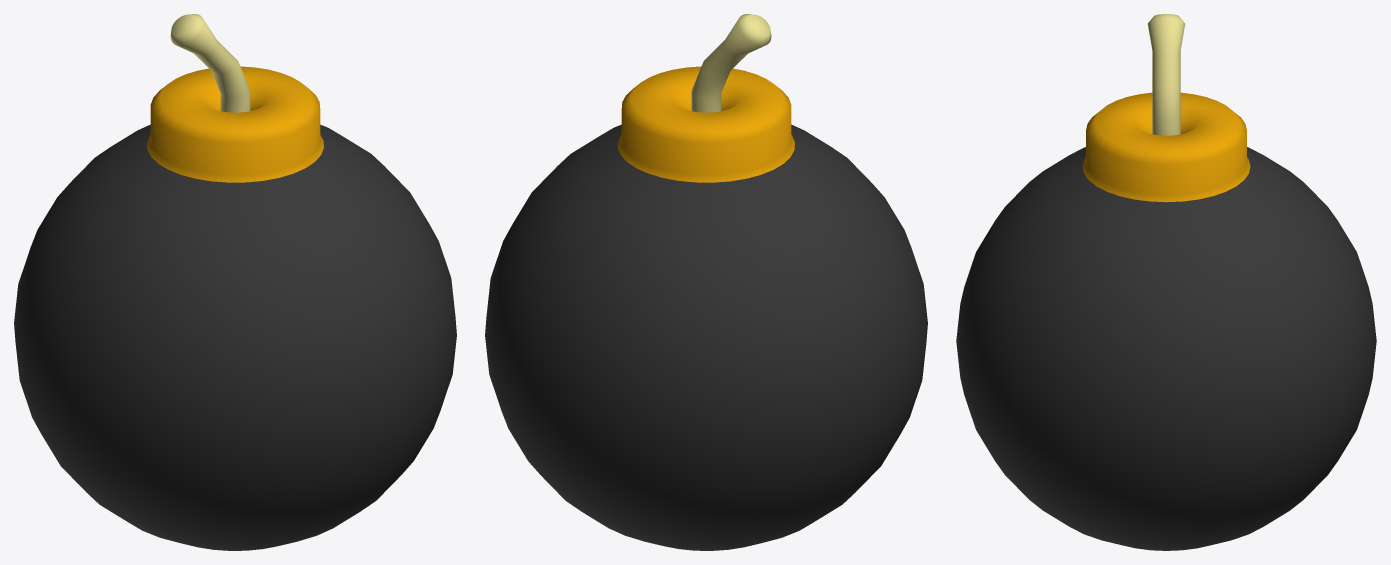
Rendered from bomba.fbx.
The picture shows the model from 3 angles, left to right: view 1: azimuth 30°, elevation 25°; view 2: azimuth 150°, elevation 25°; view 3: azimuth 270°, elevation 25°; orthographic projection. The views are drawn at different scales.
Parts seen in each view (by area): view 1: Sphere, Sphere.002, Sphere.001; view 2: Sphere, Sphere.002, Sphere.001; view 3: Sphere, Sphere.002, Sphere.001.
Boxes of the visible parts, bbox=[...] form: Sphere: bbox=[14, 124, 456, 550]; Sphere.002: bbox=[147, 66, 323, 182]; Sphere.001: bbox=[170, 14, 250, 112]; Sphere: bbox=[485, 124, 927, 550]; Sphere.002: bbox=[618, 66, 794, 182]; Sphere.001: bbox=[691, 14, 771, 112]; Sphere: bbox=[956, 147, 1376, 550]; Sphere.002: bbox=[1082, 92, 1250, 202]; Sphere.001: bbox=[1147, 14, 1185, 135].
Size of the model in its own units: 200 by 261 by 200.
